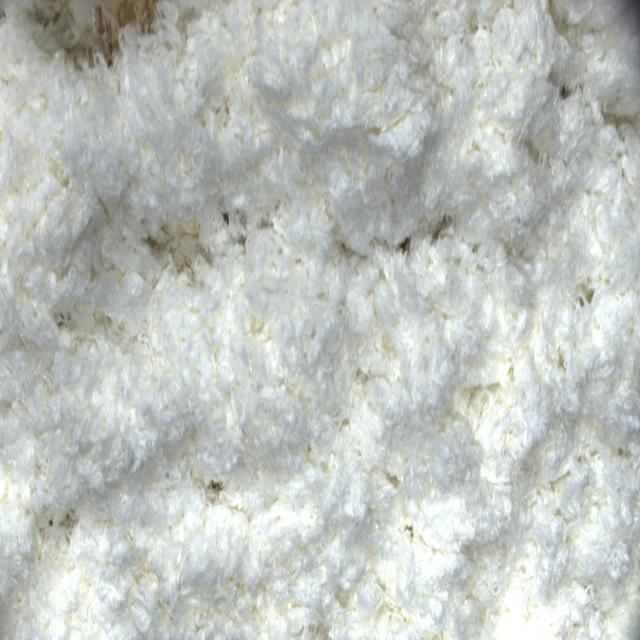dust: (43, 7, 118, 74), (117, 2, 156, 31)
